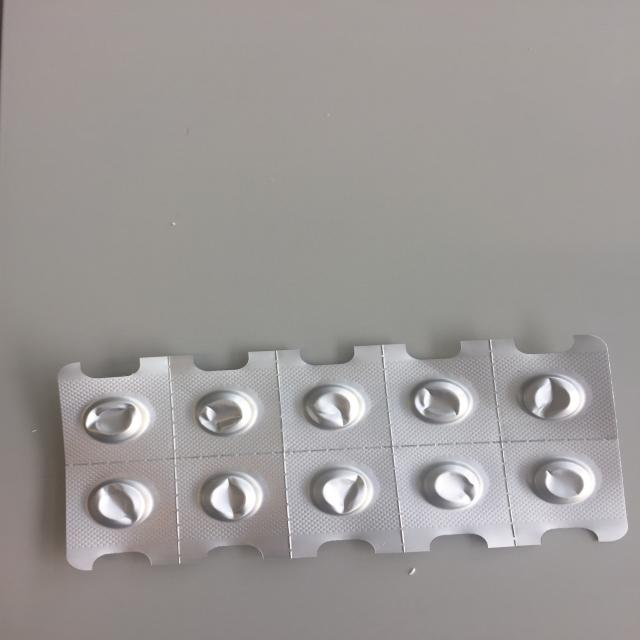Empty: (511, 366, 590, 426), (413, 456, 493, 515), (69, 390, 152, 446), (303, 458, 378, 518), (193, 468, 270, 526), (400, 374, 476, 432), (526, 450, 598, 511), (187, 384, 263, 440), (84, 476, 158, 532), (296, 380, 372, 432)
